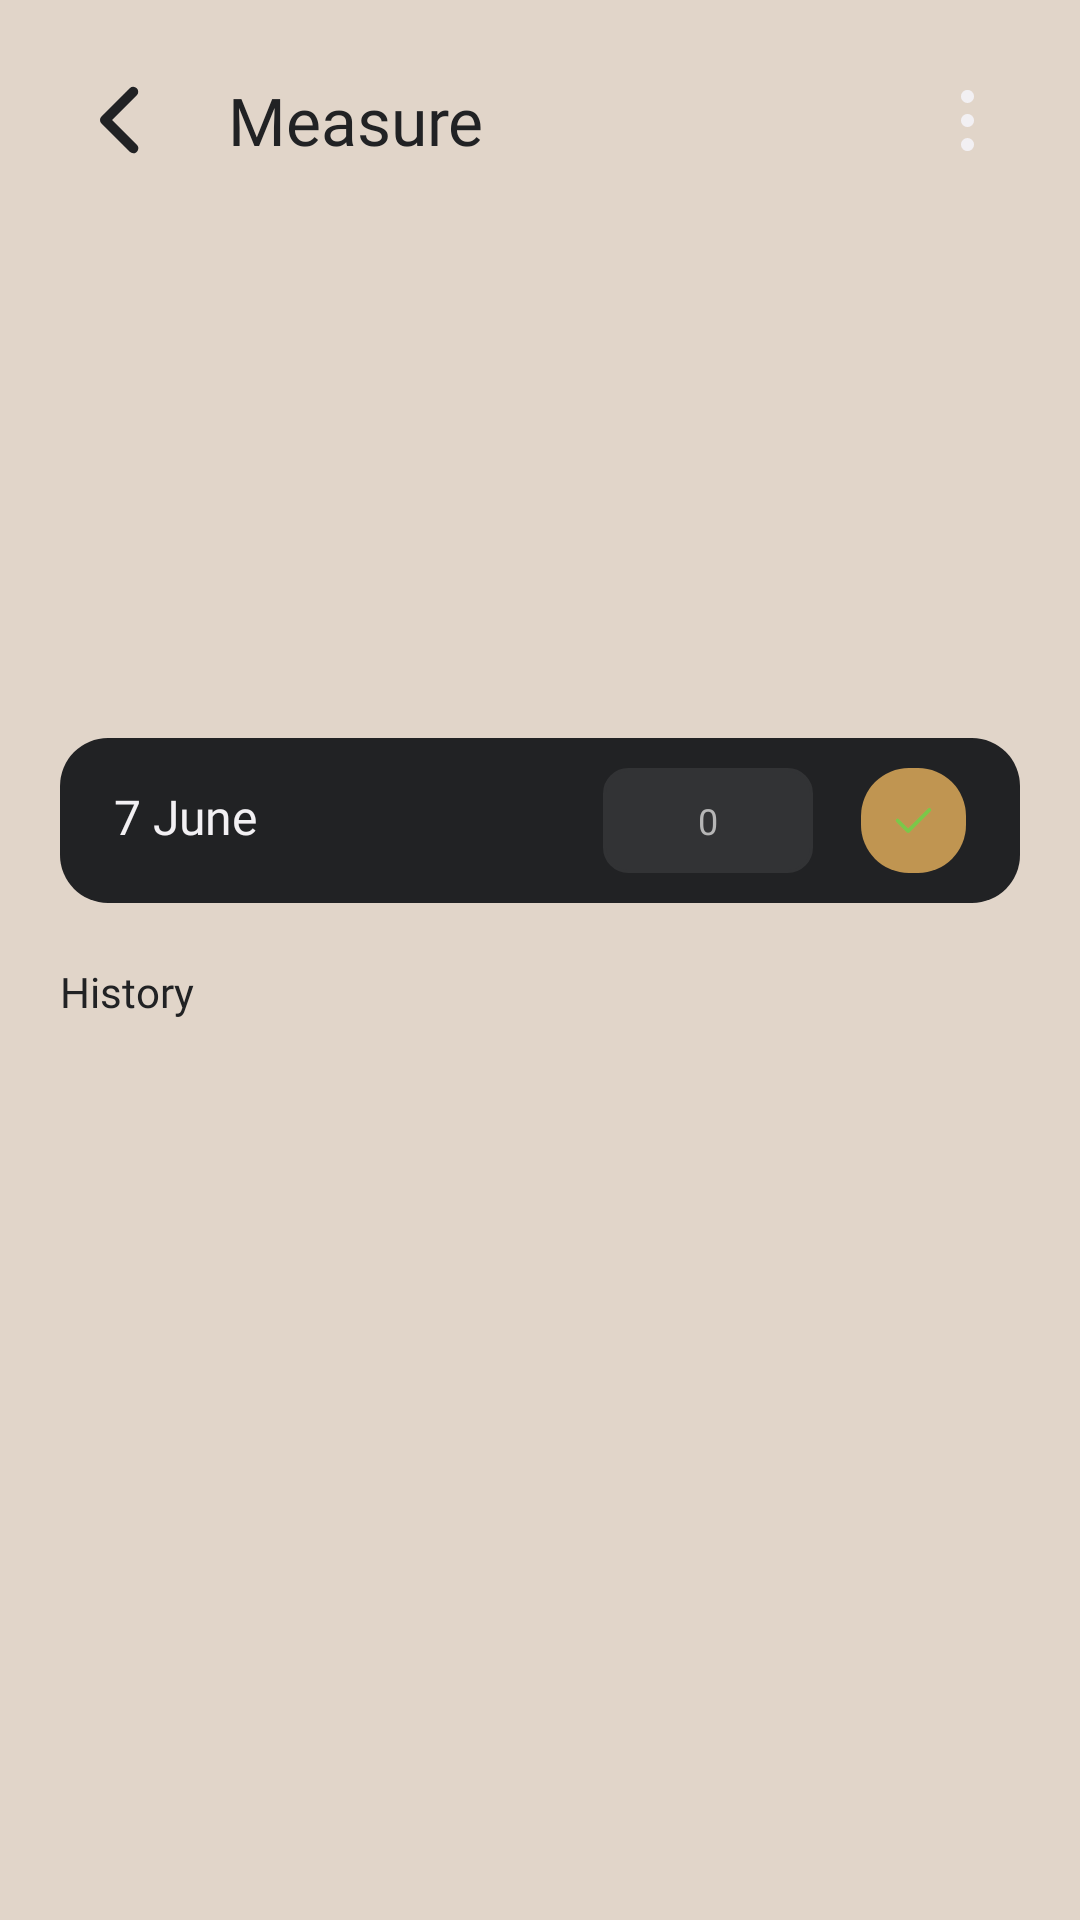

Where to tap for icons on this 1080 × 1920 app screen, as [x,y]:
apply: [913,820]
arrow left: [119,120]
more: [967,120]
